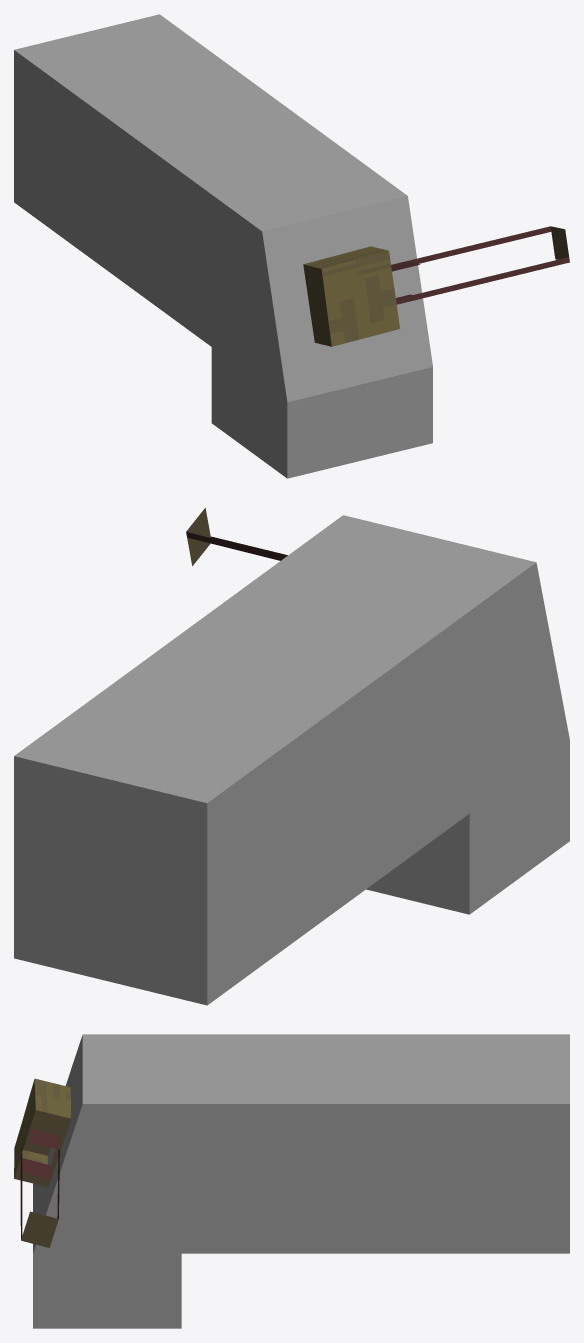
File: fauceton.obj
The picture shows the model from 3 angles, top to bottom: view 1: azimuth 30°, elevation 25°; view 2: azimuth 150°, elevation 25°; view 3: azimuth 270°, elevation 25°; orthographic projection. The views are drawn at different scales.
Parts seen in each view (by area): view 1: faucet_facuet, lever; view 2: faucet_facuet, lever; view 3: faucet_facuet, lever.
Part boxes in pixels (left/top/right/bottom): faucet_facuet: left=14, top=14, right=432, bottom=478; lever: left=303, top=226, right=569, bottom=346; faucet_facuet: left=14, top=515, right=569, bottom=1005; lever: left=186, top=507, right=287, bottom=565; faucet_facuet: left=33, top=1034, right=569, bottom=1328; lever: left=14, top=1078, right=70, bottom=1247.
Bounding box in the file's own units: 0.337 × 0.2666 × 0.5981.
